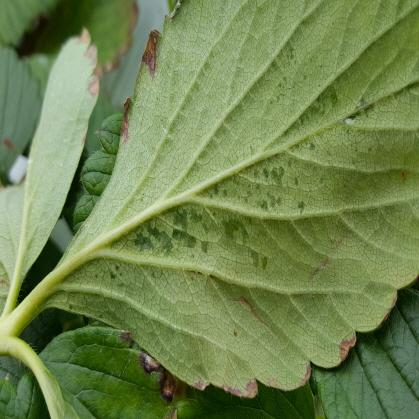Angular Leafspot: (92, 39, 391, 287), (194, 333, 359, 398)
